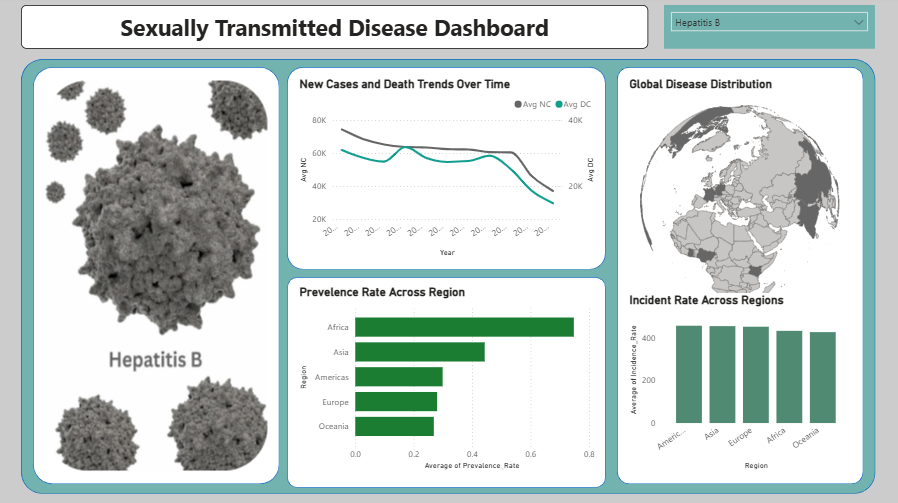

Layout of this report page (visuals, bound fields, positions):
{"tool":"powerbi","page":{"name":"Page 1","canvas":[1280,720],"ordinal":0},"visuals":[{"type":"shape","box":[33.6,89,1211.1,616.5],"z":0},{"type":"textbox","box":[33.6,13.4,888.6,62.2],"z":1000},{"type":"slicer","fields":{"Values":["Health Image Dataset.Disease"]},"box":[945.7,13.4,299,62.2],"z":2000},{"type":"shape","box":[878.5,100.8,349.4,591.3],"z":3000},{"type":"shape","box":[50.4,100.8,349.4,591.3],"z":4000},{"type":"shape","box":[411.5,100.8,451.9,287.2],"z":5000},{"type":"shape","box":[411.5,398.1,451.9,299],"z":6000},{"type":"imageDB603108E3FF4EBFB8047F5653368E8C","fields":{"imageUrl":["Health Image Dataset.Image URL"]},"box":[62.2,114.2,325.9,562.7],"z":7000},{"type":"lineChart","title":"New Cases and Death Trends Over Time","fields":{"Category":["Health Dataset.Year"],"Y":["Avg(Health Dataset.New_Cases)"],"Y2":["Avg(Health Dataset.Deaths)"]},"box":[423.3,114.2,428.3,258.7],"z":8000},{"type":"clusteredBarChart","title":"Prevelence Rate Across Region","fields":{"Category":["Health Dataset.Region"],"Y":["Avg(Health Dataset.Prevalence_Rate)"]},"box":[423.3,409.9,428.3,267.1],"z":10000},{"type":"shapeMap","title":"Global Disease Distribution","fields":{"Category":["Health Dataset.Country"]},"box":[892,114.2,322.5,337.6],"z":10001},{"type":"clusteredColumnChart","title":"Incident Rate Across Regions","fields":{"Category":["Health Dataset.Region"],"Y":["Avg(Health Dataset.Incidence_Rate)"]},"box":[892,421.6,322.5,255.3],"z":10002}]}

Visuals, with their boxes in screenshot pixels (x1, y1, x2, y2), scaled from the page's 1280x720 canvas onto the 898x503 screenshot:
shape: detection(24, 62, 873, 493)
textbox: detection(24, 9, 647, 53)
slicer - Health Image Dataset.Disease: detection(663, 9, 873, 53)
shape: detection(616, 70, 861, 484)
shape: detection(35, 70, 280, 484)
shape: detection(289, 70, 606, 271)
shape: detection(289, 278, 606, 487)
imageDB603108E3FF4EBFB8047F5653368E8C - Health Image Dataset.Image URL: detection(44, 80, 272, 473)
"New Cases and Death Trends Over Time" lineChart: detection(297, 80, 597, 261)
"Prevelence Rate Across Region" clusteredBarChart: detection(297, 286, 597, 473)
"Global Disease Distribution" shapeMap: detection(626, 80, 852, 316)
"Incident Rate Across Regions" clusteredColumnChart: detection(626, 295, 852, 473)
